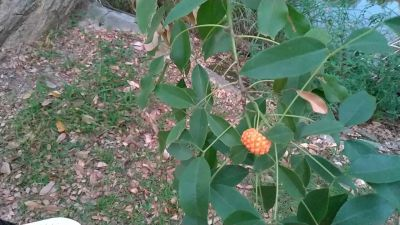eggs: (241, 126, 271, 158)
